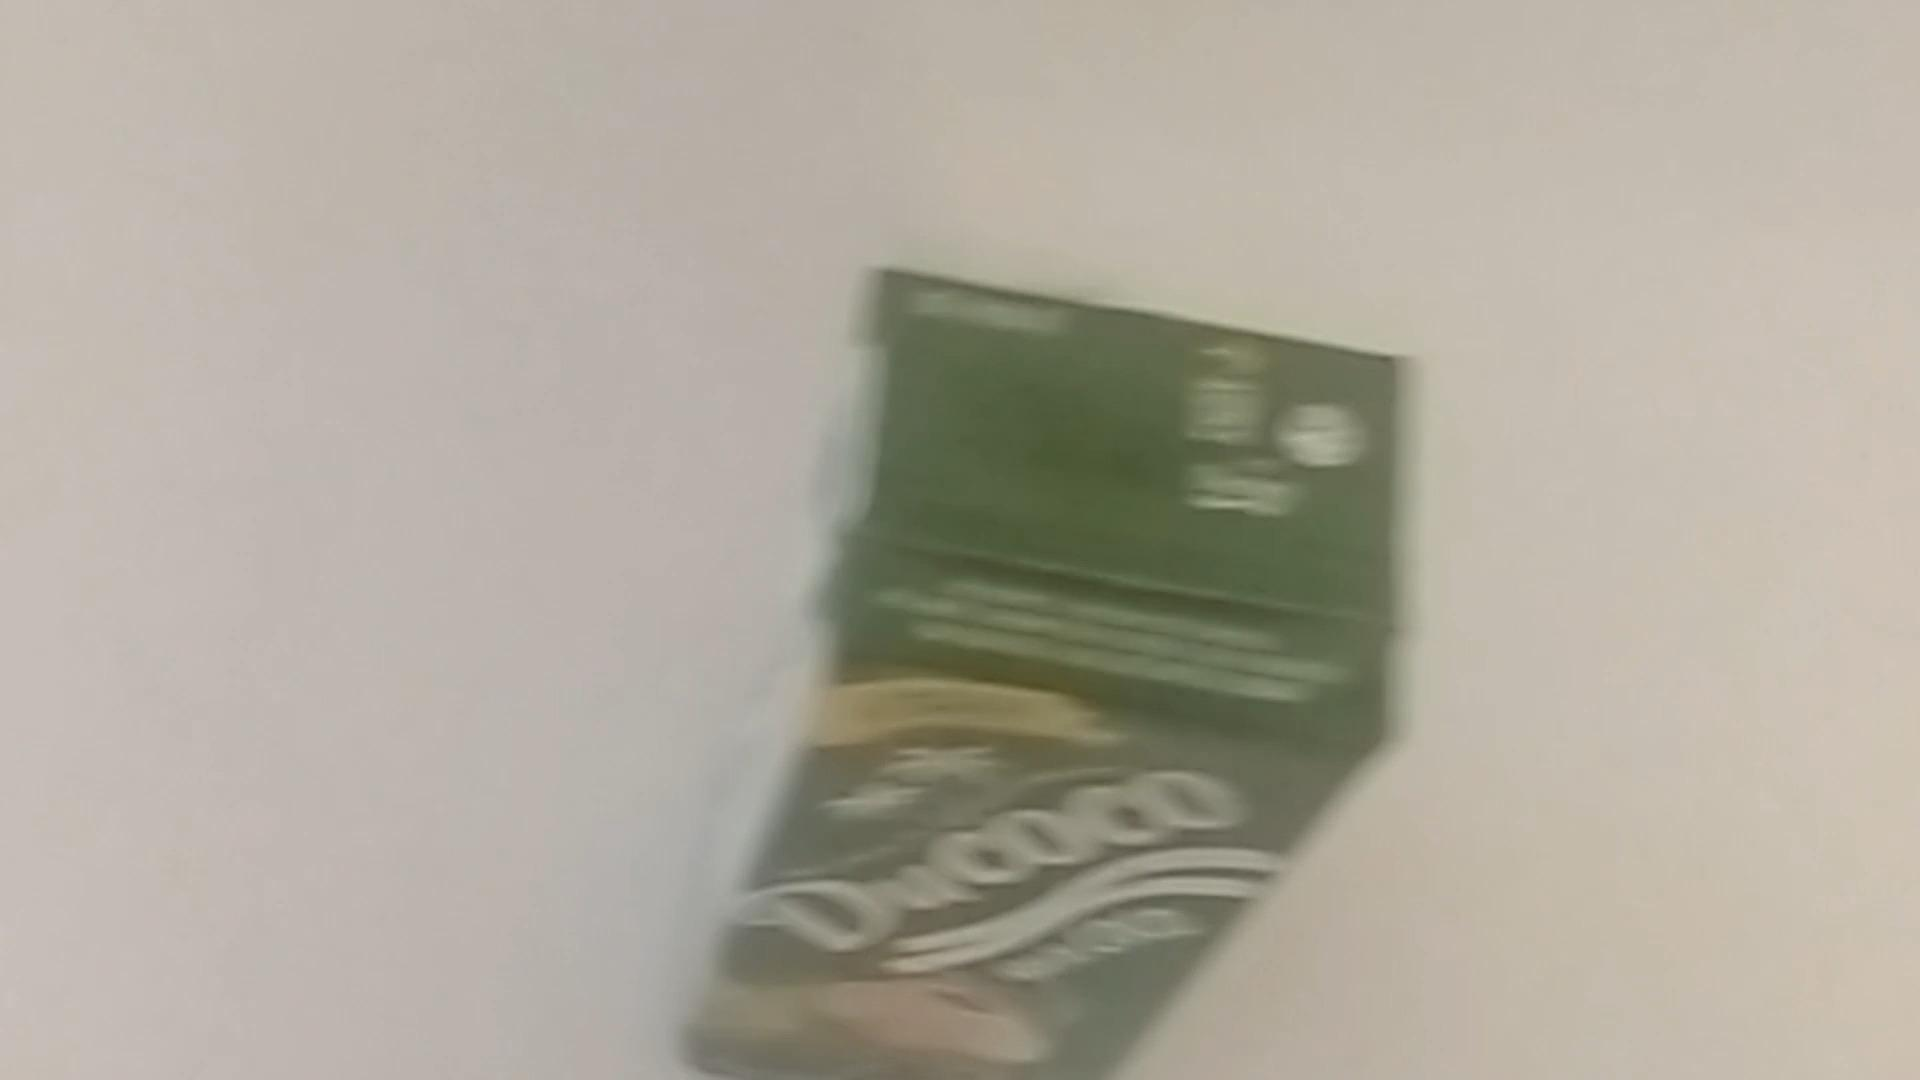coco: (671, 265, 1410, 1080)
